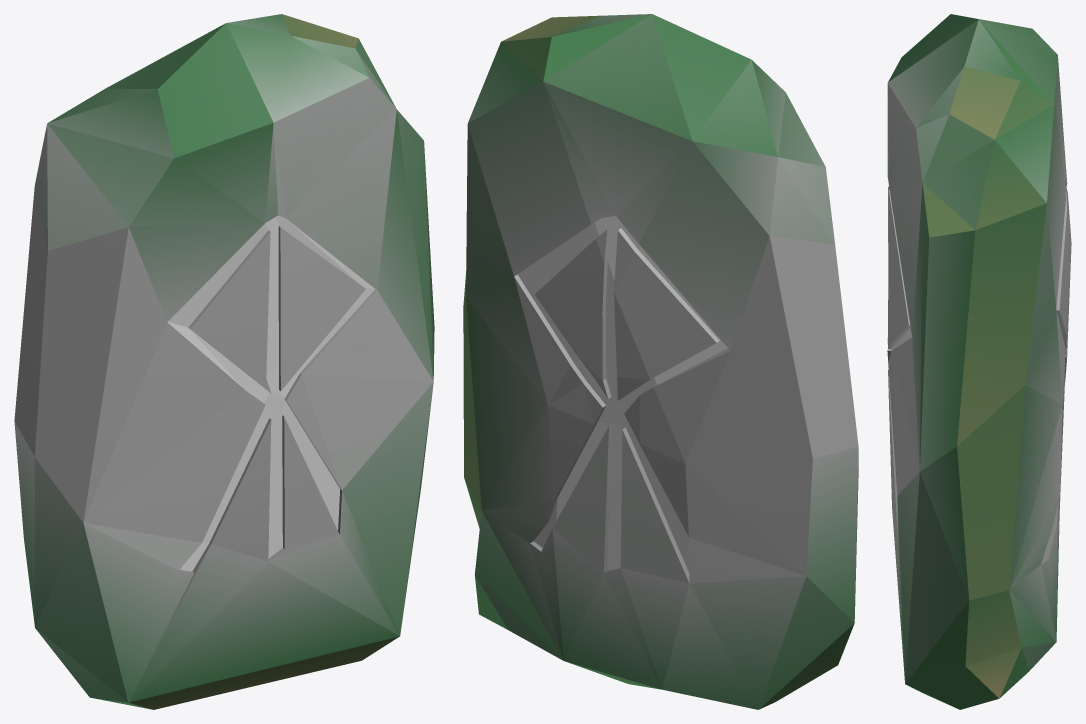
File: runestone_courage_mossy.fbx
3 renders of one model, left to right at view 1: azimuth 30°, elevation 25°; view 2: azimuth 150°, elevation 25°; view 3: azimuth 270°, elevation 25°, orthographic. The views are drawn at different scales.
Visible parts, largest first — view 1: runestone_courage_mossy; view 2: runestone_courage_mossy; view 3: runestone_courage_mossy.
Part boxes in pixels (box(x1,y1,x2,y2)): runestone_courage_mossy: box(14, 14, 434, 709); runestone_courage_mossy: box(463, 14, 858, 709); runestone_courage_mossy: box(887, 14, 1071, 709).
Size of the model in its own units: 1.8 by 2.8 by 0.75.
2 materials, 1 textured.
